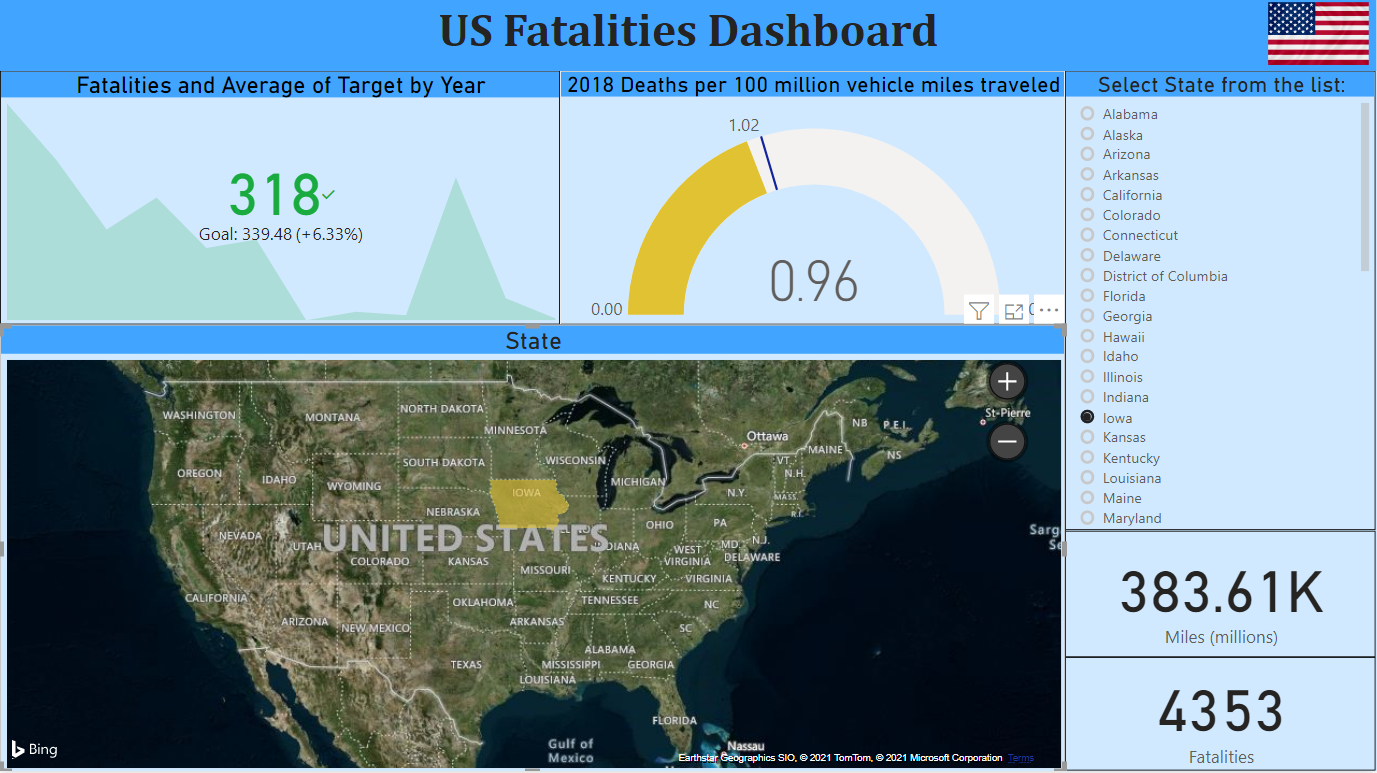

What the dashboard file says about the page in this screenshot:
{"tool":"powerbi","page":{"name":"Dashboard","canvas":[1280,720],"ordinal":0},"visuals":[{"type":"slicer","title":"Select State from the list:","fields":{"Values":["PA - Driving Safety.State"]},"box":[990.8,68.5,289.2,427.6],"z":0},{"type":"gauge","fields":{"Y":["Sum(PA - Driving Safety.2018 Deaths per 100 million vehicle miles traveled)"]},"box":[520.8,68.5,470.1,235.7],"z":1000},{"type":"filledMap","fields":{"Category":["PA - Driving Safety.State"]},"box":[0,304.2,990.8,416.6],"z":2000},{"type":"kpi","fields":{"Indicator":["Sum(PA - Driving Safety.Fatalities)"],"TrendLine":["PA - Driving Safety.Year"],"Goal":["Avg(PA - Driving Safety.Target)"]},"box":[0,68.5,520.8,235.7],"z":3000},{"type":"card","fields":{"Values":["Sum(PA - Driving Safety.Miles (millions))"]},"box":[990.8,496.1,289.2,117.9],"z":4000},{"type":"card","fields":{"Values":["Sum(PA - Driving Safety.Fatalities)"]},"box":[990.8,614,289.2,105.5],"z":5000},{"type":"textbox","box":[0,0,1280,68.6],"z":6000},{"type":"image","box":[1173,0,107,68.6],"z":7000}]}

Visuals, with their boxes in screenshot pixels (x1, y1, x2, y2), scaled from the page's 1280x720 canvas onto the 1377x773 screenshot:
"Select State from the list:" slicer: <box>1066,74,1376,533</box>
gauge - Sum(PA - Driving Safety.2018 Deaths per 100 million vehicle miles traveled): <box>560,74,1066,327</box>
filledMap - PA - Driving Safety.State: <box>0,327,1066,772</box>
kpi - Sum(PA - Driving Safety.Fatalities) x PA - Driving Safety.Year: <box>0,74,560,327</box>
card - Sum(PA - Driving Safety.Miles (millions)): <box>1066,533,1376,659</box>
card - Sum(PA - Driving Safety.Fatalities): <box>1066,659,1376,772</box>
textbox: <box>0,0,1376,74</box>
image: <box>1262,0,1376,74</box>
